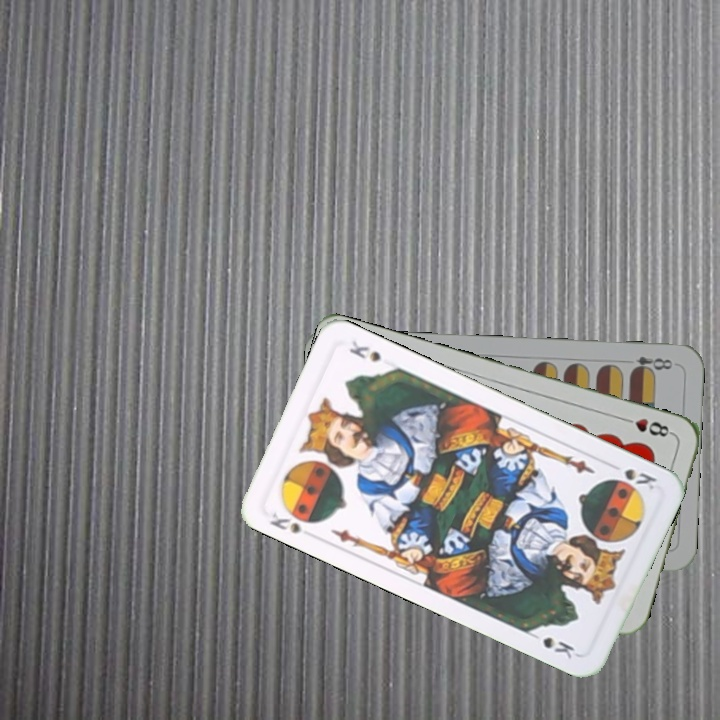E8: (627, 352, 675, 376)
H8: (618, 413, 676, 440)
SK: (604, 459, 660, 493), (265, 508, 304, 537)
